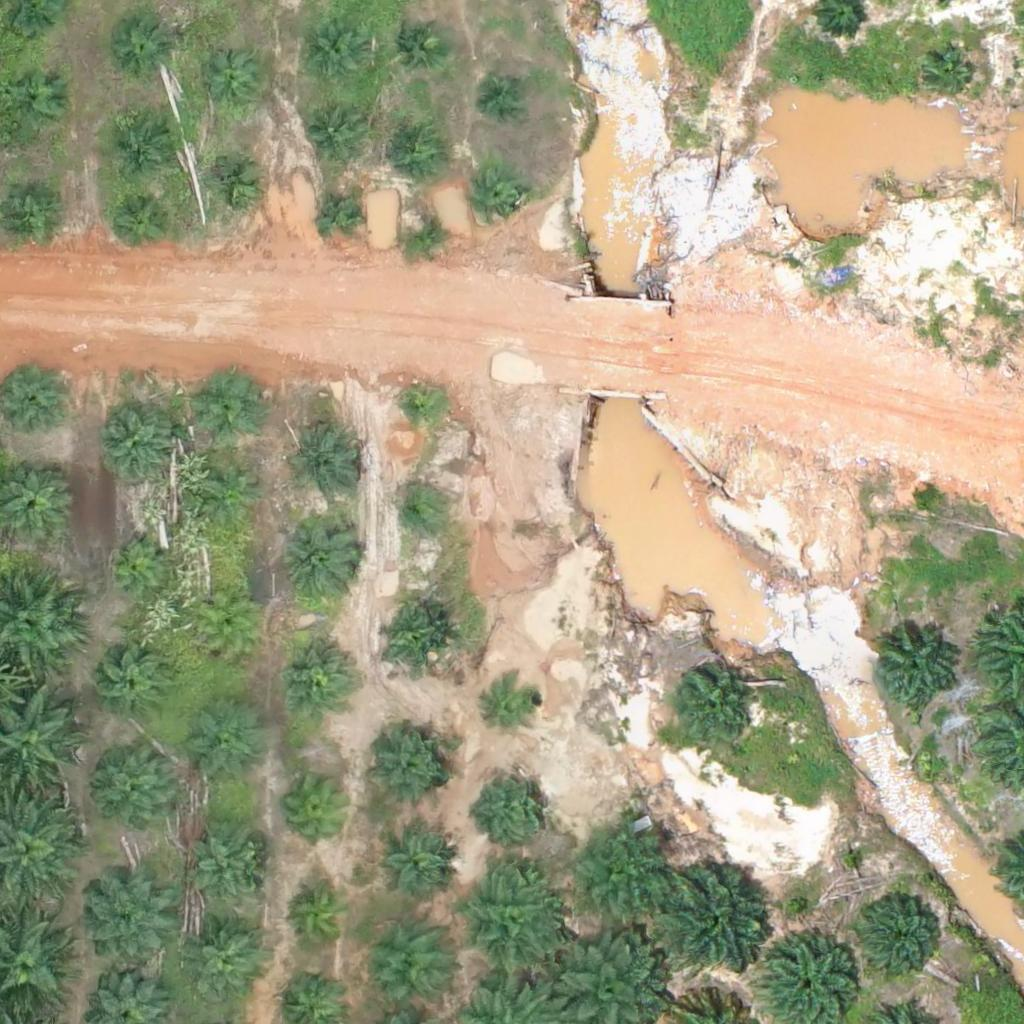Kelapa_Sawit: (651, 852, 776, 978), (565, 815, 677, 929), (455, 867, 567, 980), (354, 923, 454, 1023), (368, 728, 456, 816), (180, 921, 268, 1009), (86, 878, 174, 966), (871, 626, 959, 714), (92, 747, 179, 836), (372, 825, 459, 913), (670, 667, 757, 755), (179, 829, 266, 917), (95, 400, 182, 488), (858, 891, 945, 979), (285, 422, 360, 498), (376, 603, 451, 679), (280, 879, 355, 955), (478, 766, 553, 842), (285, 519, 360, 595), (93, 646, 168, 721), (190, 710, 265, 785), (277, 637, 352, 712), (283, 770, 358, 845), (302, 22, 365, 85), (109, 191, 172, 254), (198, 372, 261, 435), (389, 118, 452, 181), (303, 103, 366, 166), (194, 594, 257, 657), (113, 113, 175, 176), (110, 17, 172, 80), (204, 468, 266, 531), (199, 55, 261, 118), (204, 153, 266, 216), (389, 13, 451, 76), (483, 675, 545, 738), (103, 534, 165, 596), (316, 188, 366, 239), (402, 209, 452, 260), (473, 175, 523, 225), (483, 70, 533, 120), (395, 383, 445, 433), (391, 490, 441, 540), (925, 53, 975, 103)
